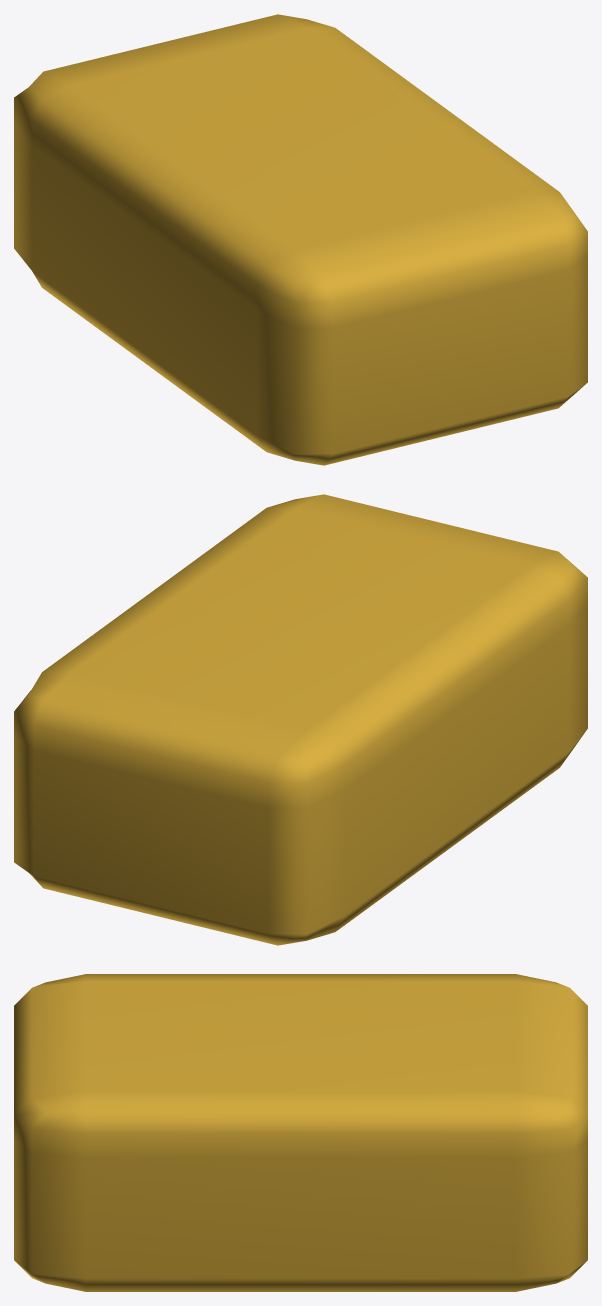
Rendered from WaxBlock.fbx.
The picture shows the model from 3 angles, top to bottom: view 1: azimuth 30°, elevation 25°; view 2: azimuth 150°, elevation 25°; view 3: azimuth 270°, elevation 25°; orthographic projection. The views are drawn at different scales.
Parts seen in each view (by area): view 1: WaxBlock; view 2: WaxBlock; view 3: WaxBlock.
Part boxes in pixels (x1=…): WaxBlock: x1=14, y1=14, x2=587, y2=465; WaxBlock: x1=14, y1=494, x2=587, y2=945; WaxBlock: x1=14, y1=974, x2=587, y2=1291.
Size of the model in its own units: 5.08 by 3.12 by 8.42.
